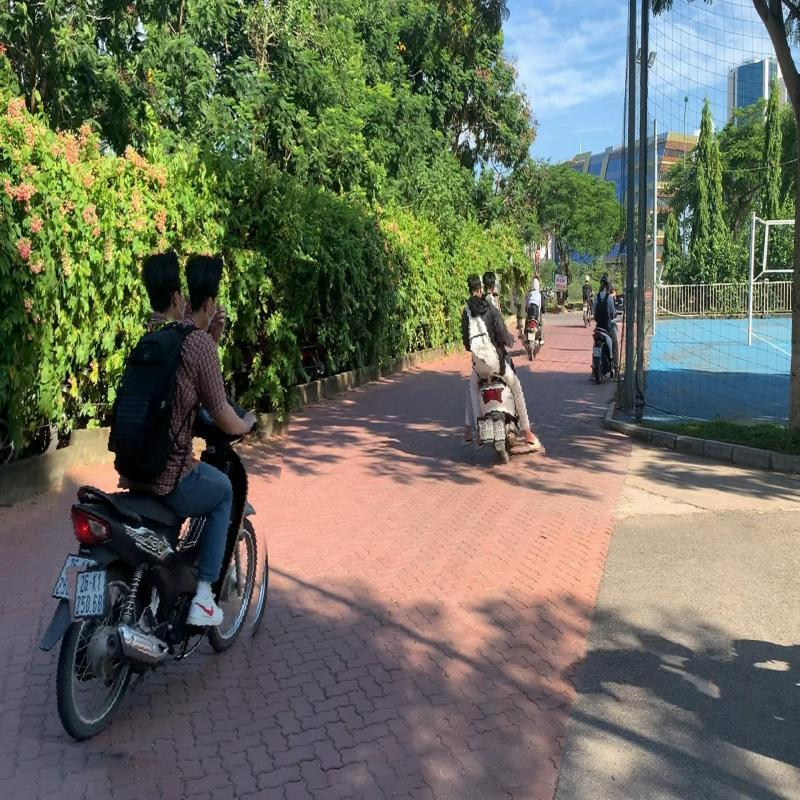helmet: (493, 273, 502, 296)
licenseplate: (66, 563, 112, 621), (478, 416, 494, 443)
motorcyclist: (39, 232, 297, 767), (452, 268, 538, 469)
nohelmet: (136, 244, 190, 324), (482, 272, 496, 294)
